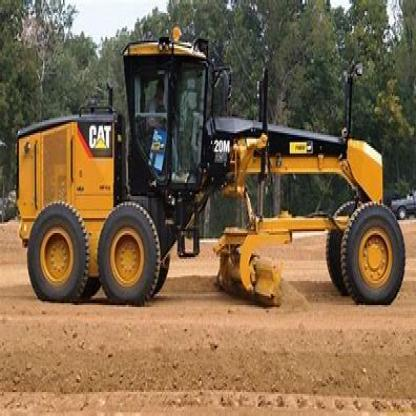bull_dozer/loader/grader: (10, 24, 415, 329)
